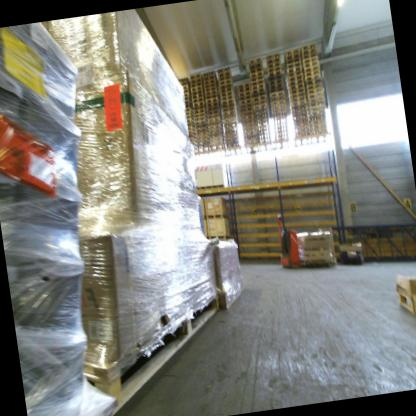pallet: (63, 293, 233, 416), (214, 276, 253, 321), (393, 280, 416, 319), (409, 295, 416, 333), (304, 77, 322, 86), (305, 92, 324, 100), (284, 53, 300, 62), (287, 72, 303, 81), (305, 69, 321, 78), (305, 82, 322, 90), (268, 94, 285, 102), (284, 49, 299, 58), (238, 93, 253, 102), (304, 88, 323, 95), (308, 111, 327, 118), (304, 65, 320, 73), (269, 99, 285, 107), (306, 97, 324, 104), (308, 106, 326, 113), (310, 119, 328, 126), (266, 52, 280, 61), (267, 62, 282, 70), (310, 115, 327, 122), (248, 56, 261, 65), (285, 61, 301, 68), (285, 65, 301, 72), (288, 78, 304, 85), (289, 87, 305, 94), (312, 127, 328, 134), (270, 104, 286, 111), (251, 91, 265, 99), (306, 102, 324, 108), (287, 69, 302, 76), (300, 43, 315, 50), (303, 61, 318, 68), (266, 57, 281, 64), (292, 96, 306, 103), (249, 66, 263, 73), (290, 92, 306, 98), (267, 79, 283, 85), (268, 90, 284, 96), (250, 75, 263, 82), (221, 102, 234, 109), (205, 101, 218, 108), (188, 73, 201, 80), (285, 58, 300, 64), (289, 83, 304, 89), (301, 49, 316, 55), (302, 53, 317, 59), (302, 57, 317, 63), (268, 75, 283, 81), (304, 75, 321, 80), (311, 124, 328, 129), (268, 67, 282, 73), (268, 71, 282, 77), (268, 83, 282, 89), (253, 95, 265, 102), (206, 109, 218, 116), (193, 112, 207, 118), (270, 87, 283, 93), (248, 62, 261, 68), (237, 83, 250, 89), (220, 95, 233, 101), (220, 99, 233, 105), (202, 75, 215, 81), (203, 82, 216, 88), (190, 91, 203, 97), (192, 108, 205, 114), (252, 84, 264, 90), (237, 86, 249, 92), (239, 99, 251, 105), (217, 67, 229, 73), (217, 71, 229, 77), (218, 75, 230, 81), (220, 87, 232, 93), (189, 78, 201, 84), (194, 116, 206, 122), (192, 95, 203, 101), (193, 100, 204, 106), (192, 104, 203, 110), (219, 91, 232, 96), (205, 94, 218, 99), (205, 98, 218, 103), (251, 71, 263, 76), (251, 80, 263, 85), (253, 101, 265, 106), (238, 90, 250, 95), (218, 79, 230, 84), (203, 79, 215, 84), (204, 90, 216, 95), (190, 82, 202, 87), (203, 71, 214, 76), (203, 87, 216, 91), (205, 107, 218, 111), (220, 83, 230, 88), (191, 86, 201, 91), (252, 89, 263, 92)
pallet_truck: (272, 206, 334, 273)
